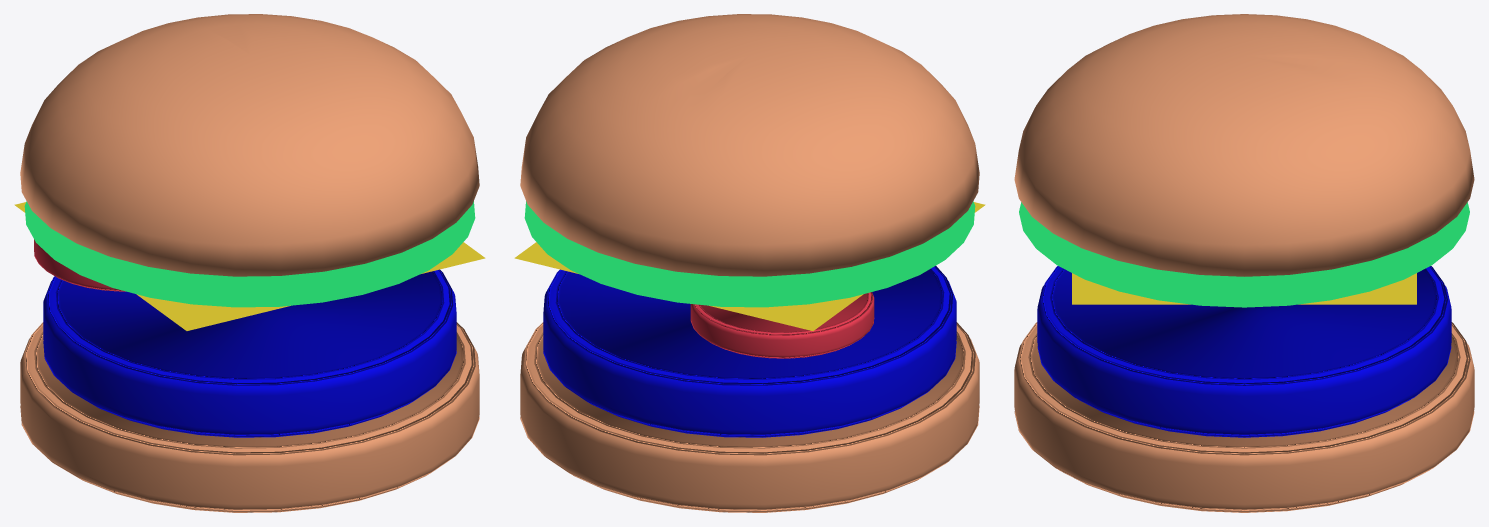
The model's file is bands.glb.
3 renders of one model, left to right at view 1: azimuth 30°, elevation 25°; view 2: azimuth 150°, elevation 25°; view 3: azimuth 270°, elevation 25°, orthographic.
Parts seen in each view (by area): view 1: 球.001, 円柱.001, 円柱, 球, 平面, 円柱.002; view 2: 球.001, 円柱.001, 円柱, 球, 円柱.002, 平面; view 3: 球.001, 円柱.001, 円柱, 球, 平面.
Boxes of the visible parts, x1,y1,x2,y2 form: 球.001: (20,14,479,276); 円柱.001: (43,269,456,437); 円柱: (20,322,479,512); 球: (24,201,475,307); 平面: (14,202,485,330); 円柱.002: (34,239,125,291); 球.001: (520,14,979,276); 円柱.001: (543,266,956,437); 円柱: (520,322,979,512); 球: (524,201,975,307); 円柱.002: (690,292,874,358); 平面: (514,202,985,330); 球.001: (1014,14,1474,276); 円柱.001: (1037,266,1451,437); 円柱: (1014,322,1474,512); 球: (1019,202,1469,307); 平面: (1072,273,1416,304).
Size of the model in its own units: 2 by 1.75 by 2.
